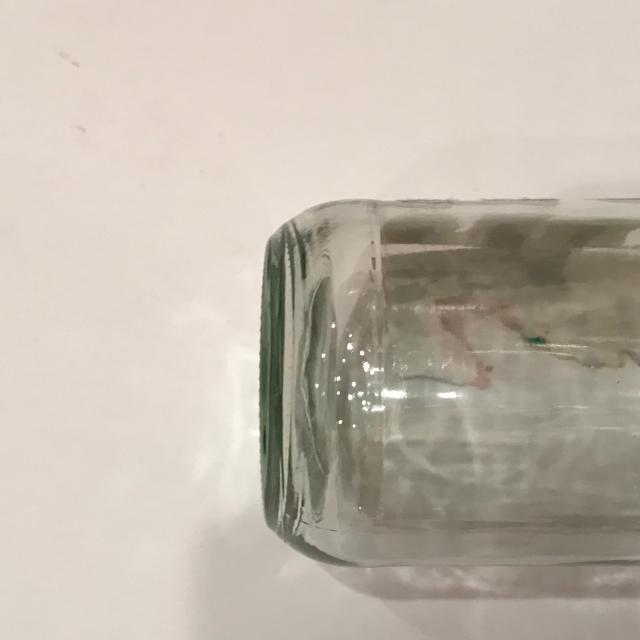glass: (167, 168, 634, 606)
